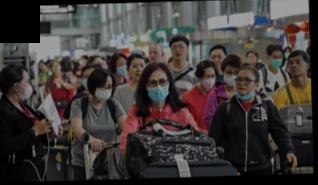mask_weared_incorrect: (235, 73, 257, 95)
with_mask: (145, 76, 170, 104), (93, 82, 113, 100), (223, 66, 239, 88), (18, 77, 33, 100), (201, 72, 217, 90), (115, 59, 130, 76), (269, 53, 284, 70), (81, 72, 94, 91), (284, 49, 293, 60)
without_mask: (287, 57, 308, 76), (129, 61, 147, 81), (171, 42, 188, 61), (210, 52, 225, 69), (147, 47, 162, 63), (50, 63, 61, 74), (248, 53, 258, 65)
